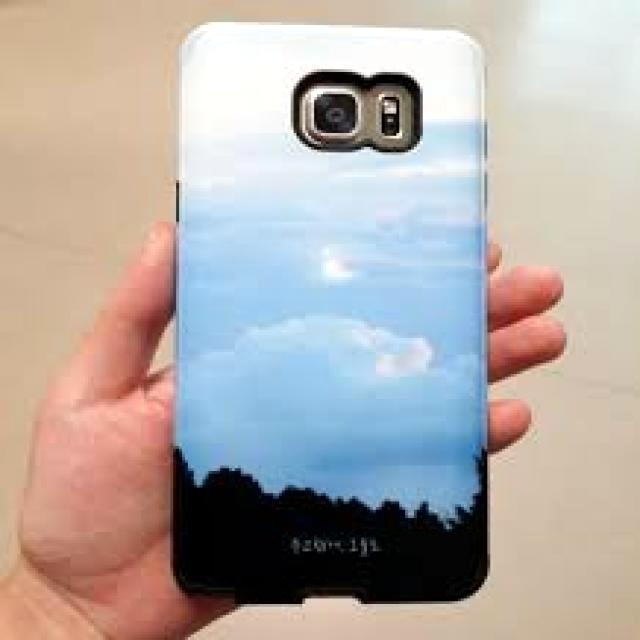lens_back: (289, 68, 371, 153)
phone: (167, 16, 497, 609)
